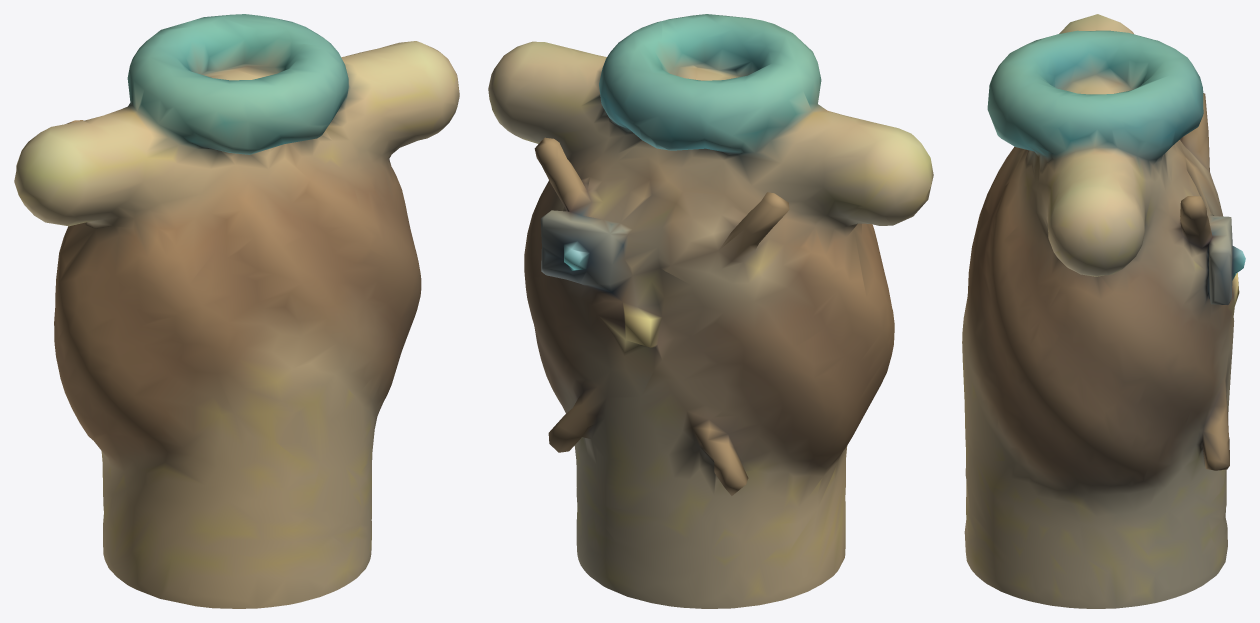
The model's file is hero_torso.glb.
3 views of the same model, side by side, from view 1: azimuth 30°, elevation 25°; view 2: azimuth 150°, elevation 25°; view 3: azimuth 270°, elevation 25° (orthographic). The views are drawn at different scales.
Parts seen in each view (by area): view 1: geometry_0; view 2: geometry_0; view 3: geometry_0.
Part boxes in pixels (<box>): geometry_0: <box>14,14,459,608</box>; geometry_0: <box>488,14,933,608</box>; geometry_0: <box>962,14,1245,608</box>.
Size of the model in its own units: 0.502 by 0.5572 by 0.2925.
